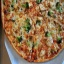pizza: (2, 1, 64, 60)
